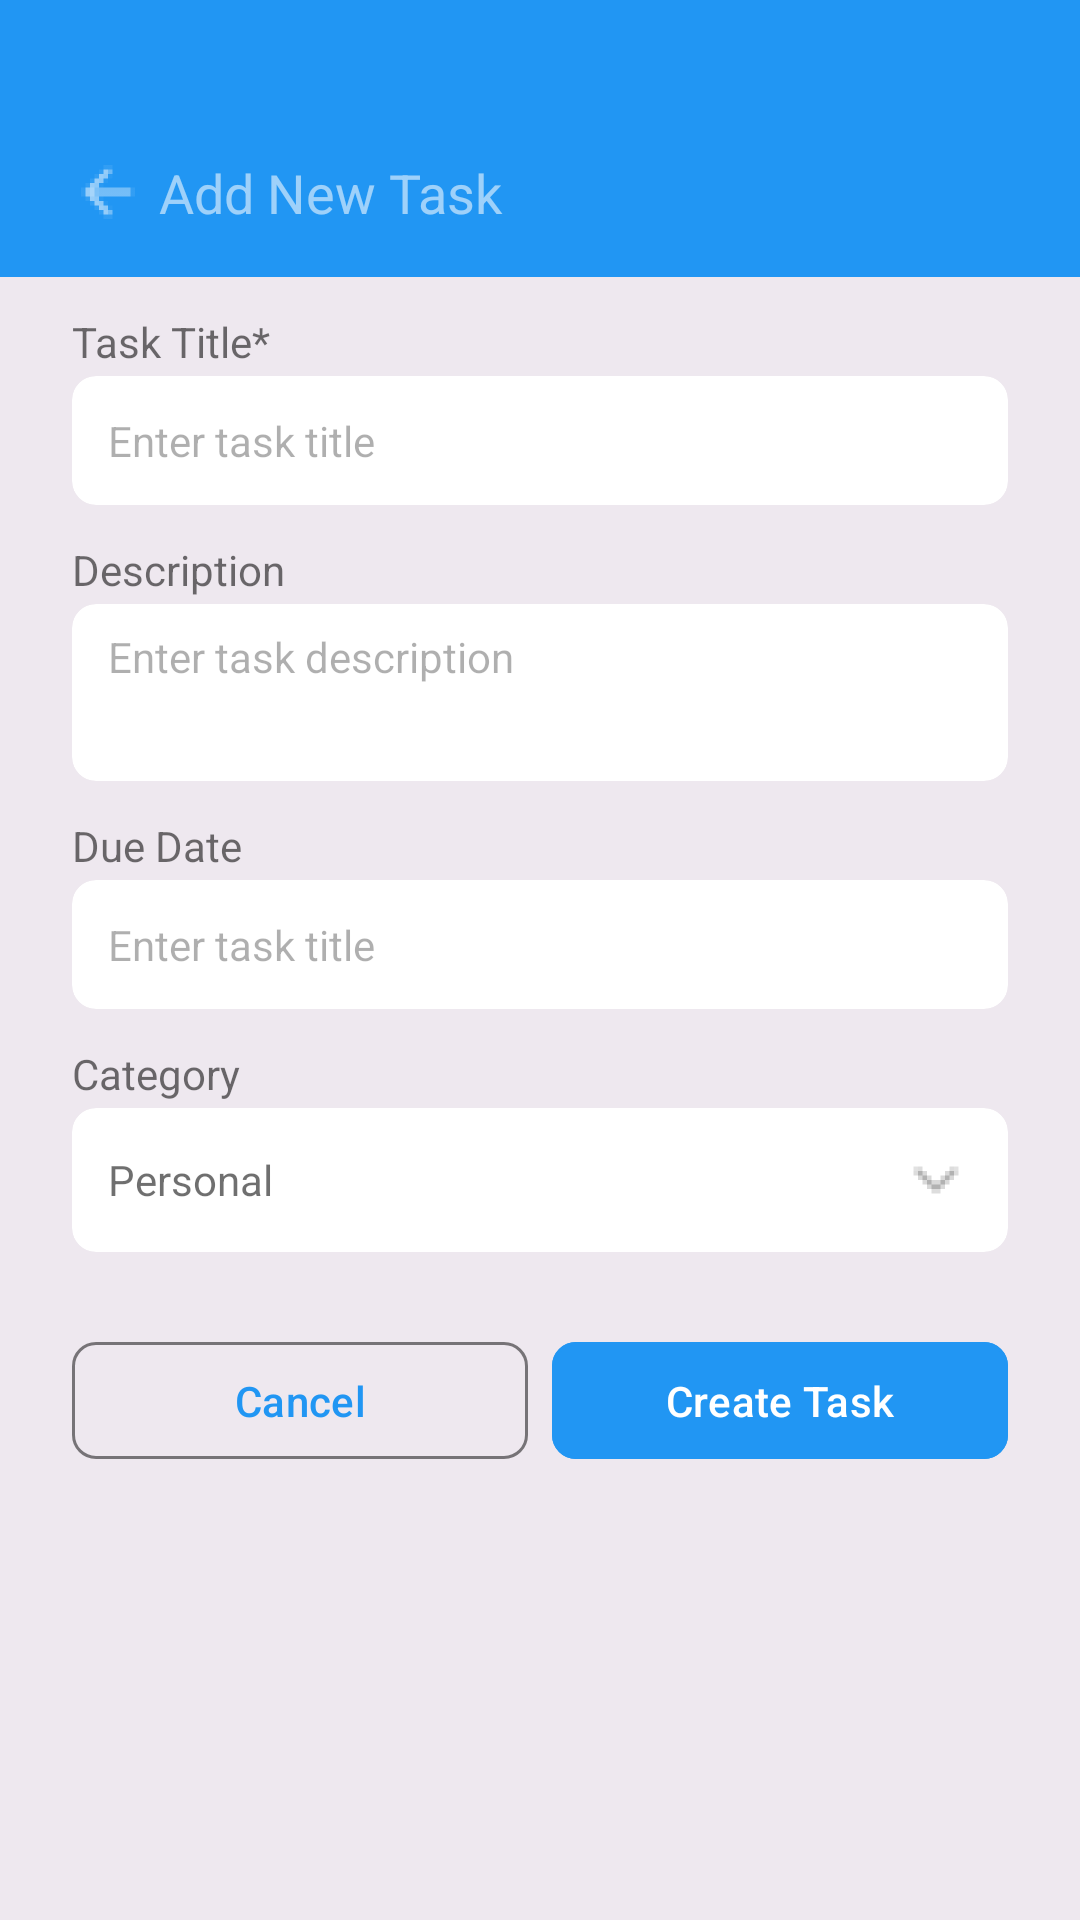

Locate icon controls on the screen. Image size 1080*1920, boxes as {"x1": x1, "y1": y1, "x2": x2, "y2": y2}.
angle down: {"x1": 914, "y1": 1167, "x2": 958, "y2": 1193}
back: {"x1": 85, "y1": 169, "x2": 131, "y2": 215}
